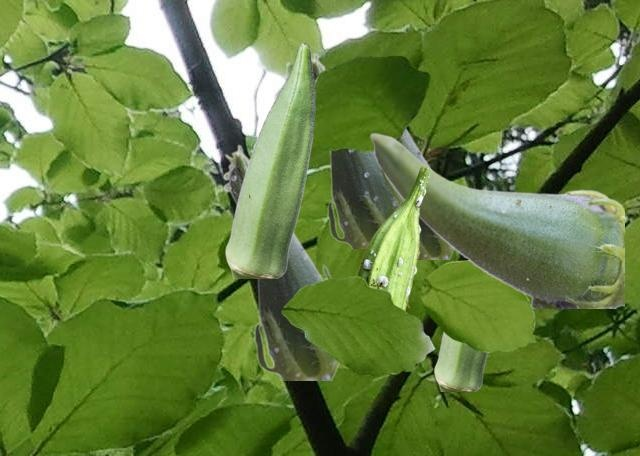okra: (369, 132, 623, 307), (222, 144, 339, 379), (225, 42, 314, 277), (312, 53, 402, 247), (356, 166, 429, 310), (399, 130, 453, 258), (434, 333, 489, 390)
